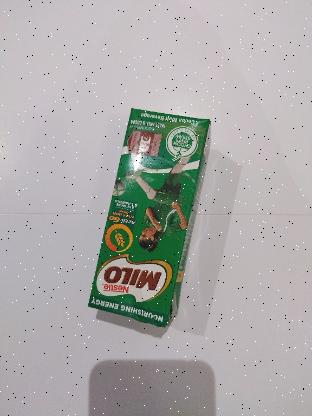Others: (89, 108, 210, 327)
